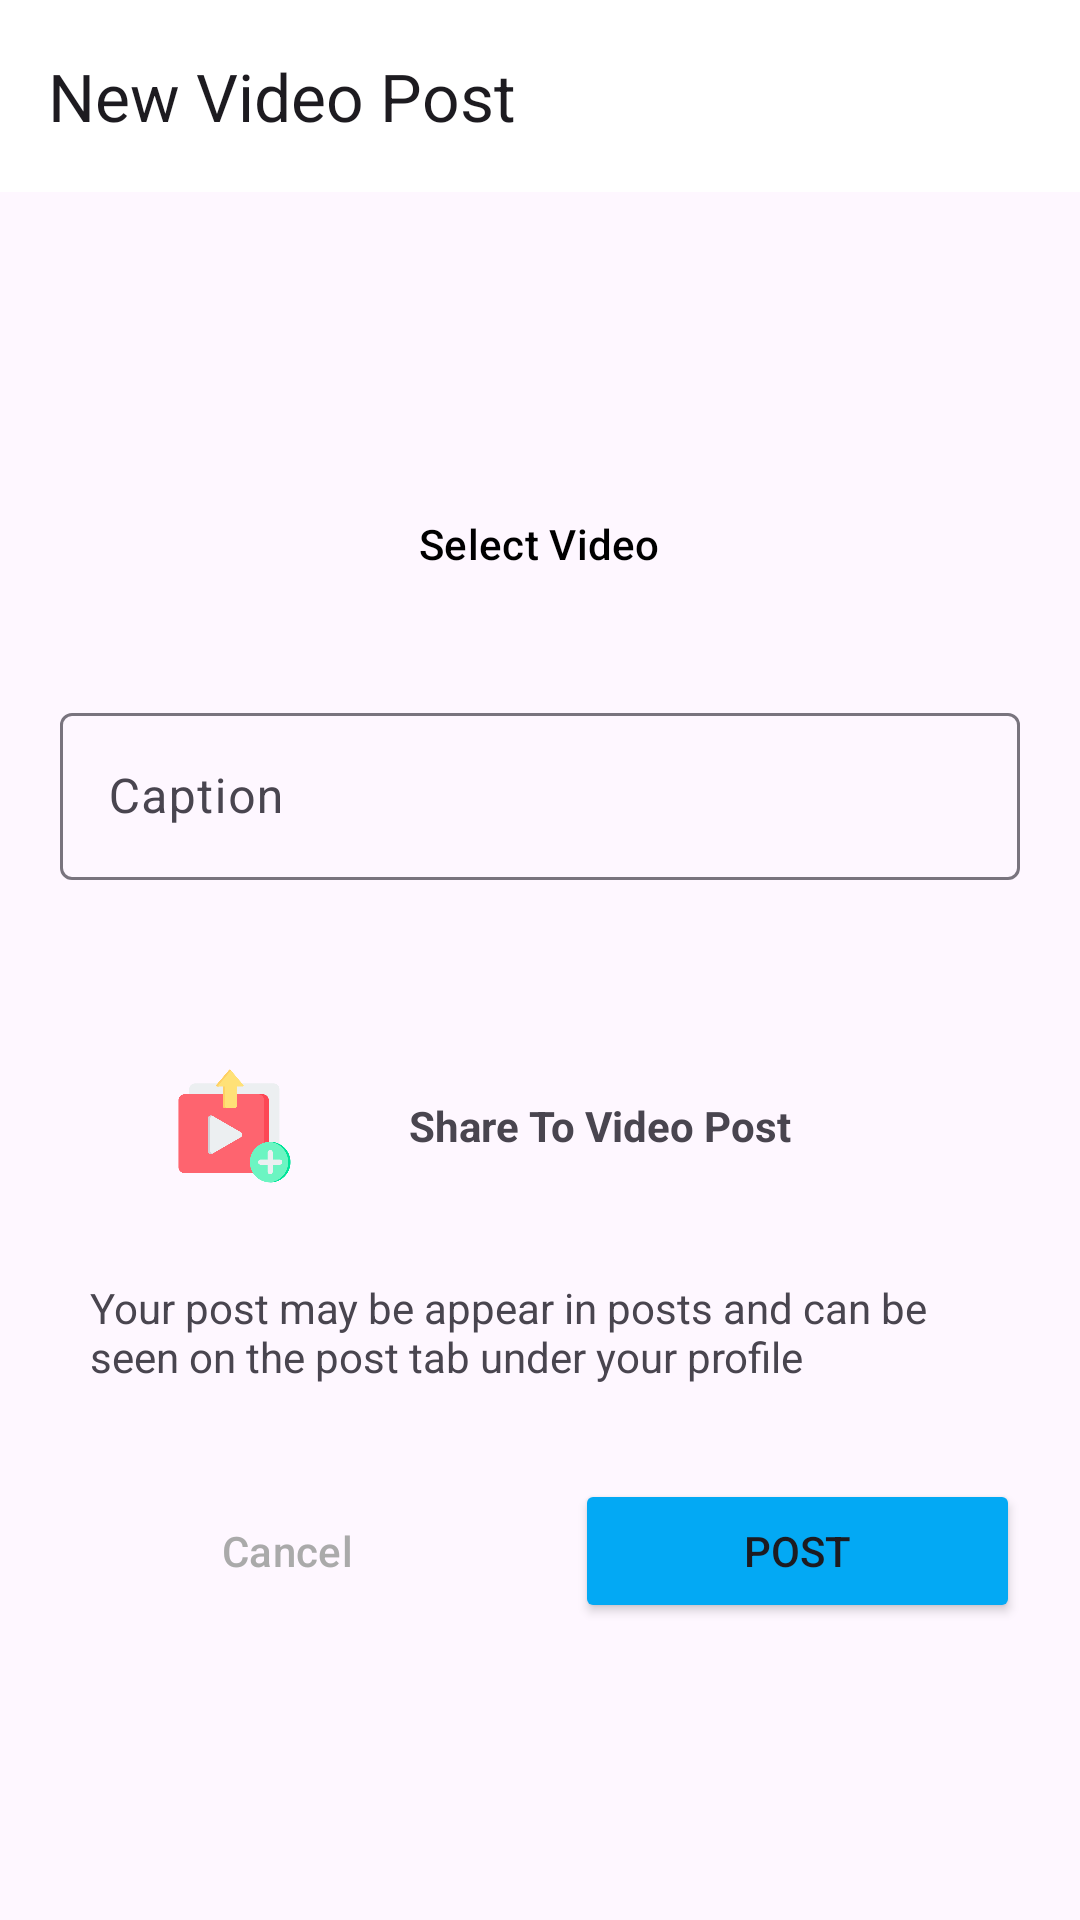

Icon click points for this 1080px×1920px phone screenshot, format [x,y]:
uploadpost: [234,1126]
